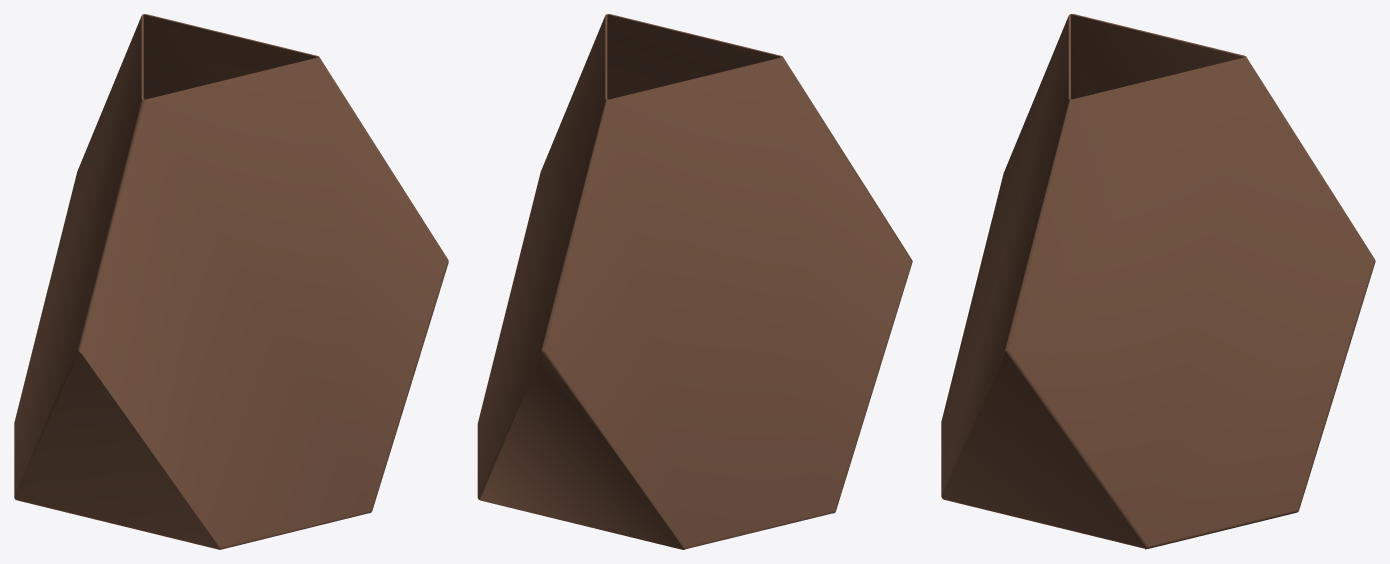
Rendered from ваза усеченная.fbx.
The picture shows the model from 3 angles, left to right: view 1: azimuth 30°, elevation 25°; view 2: azimuth 150°, elevation 25°; view 3: azimuth 270°, elevation 25°; orthographic projection.
Visible parts, largest first — view 1: Усеченная ваза; view 2: Усеченная ваза; view 3: Усеченная ваза.
Part boxes in pixels (bbox=[...]): Усеченная ваза: bbox=[14, 14, 448, 549]; Усеченная ваза: bbox=[477, 14, 912, 549]; Усеченная ваза: bbox=[941, 14, 1375, 549].
Bounding box in the file's own units: 63.26 × 66.37 × 64.21.
